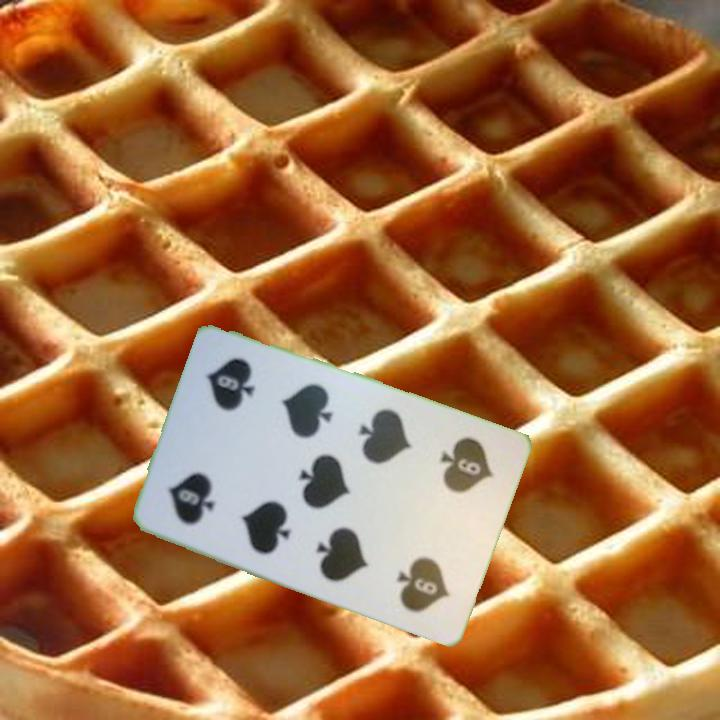s_9.png: (146, 426, 259, 548), (400, 418, 513, 540)
